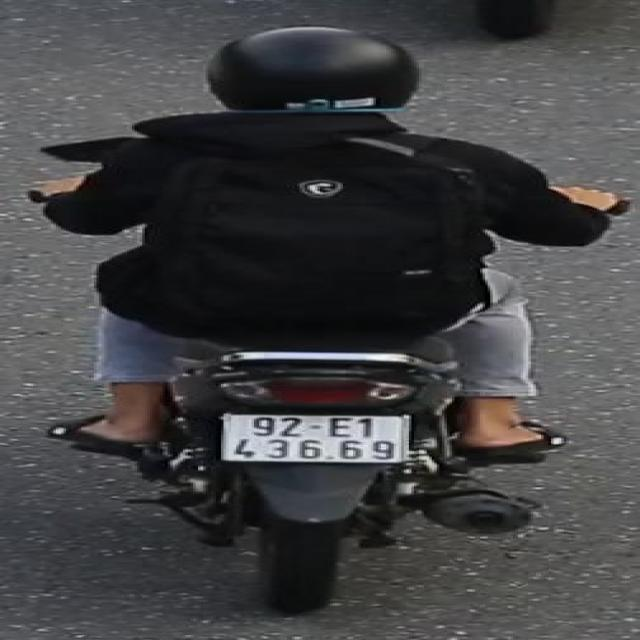LP: (215, 408, 420, 466)
helmet: (194, 21, 430, 134)
